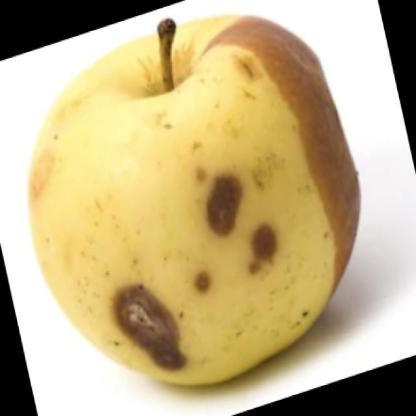defect: (200, 20, 362, 304), (110, 286, 190, 374), (198, 169, 240, 235), (251, 222, 281, 272)
